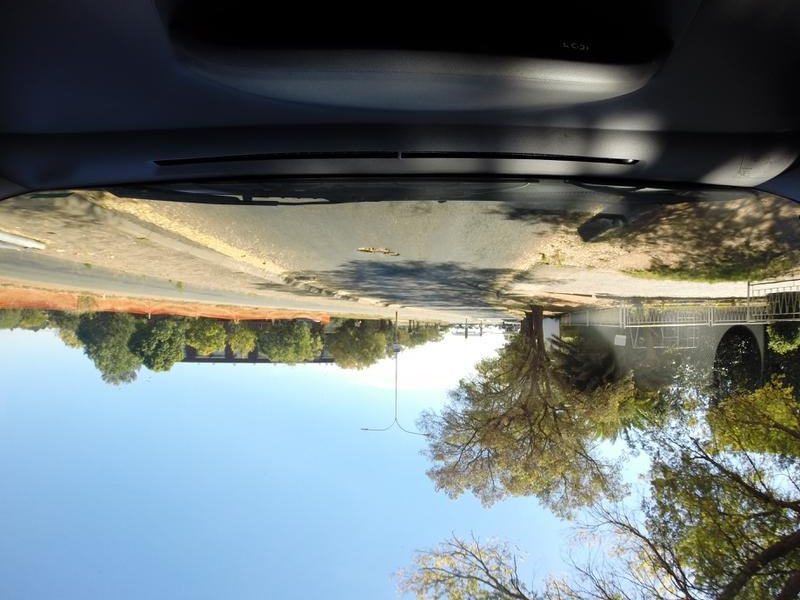pothole: (345, 241, 400, 261)
